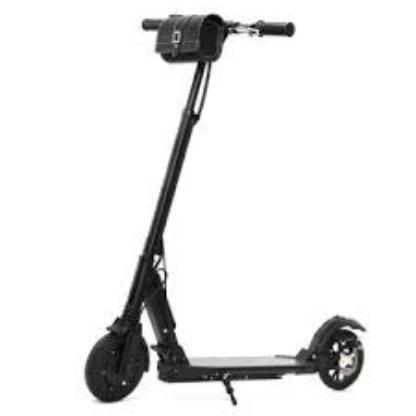bike: (80, 8, 377, 408)
